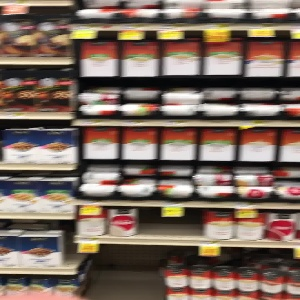void: (88, 247, 160, 300), (139, 203, 203, 240)
